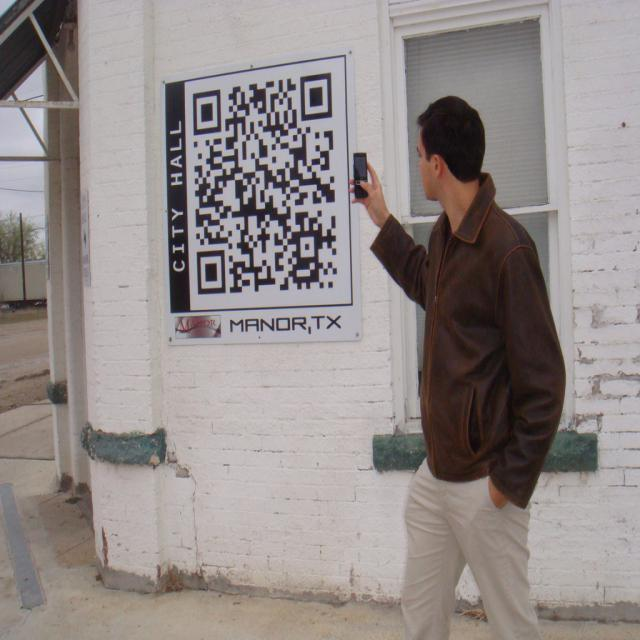qrcode: (194, 74, 338, 295)
